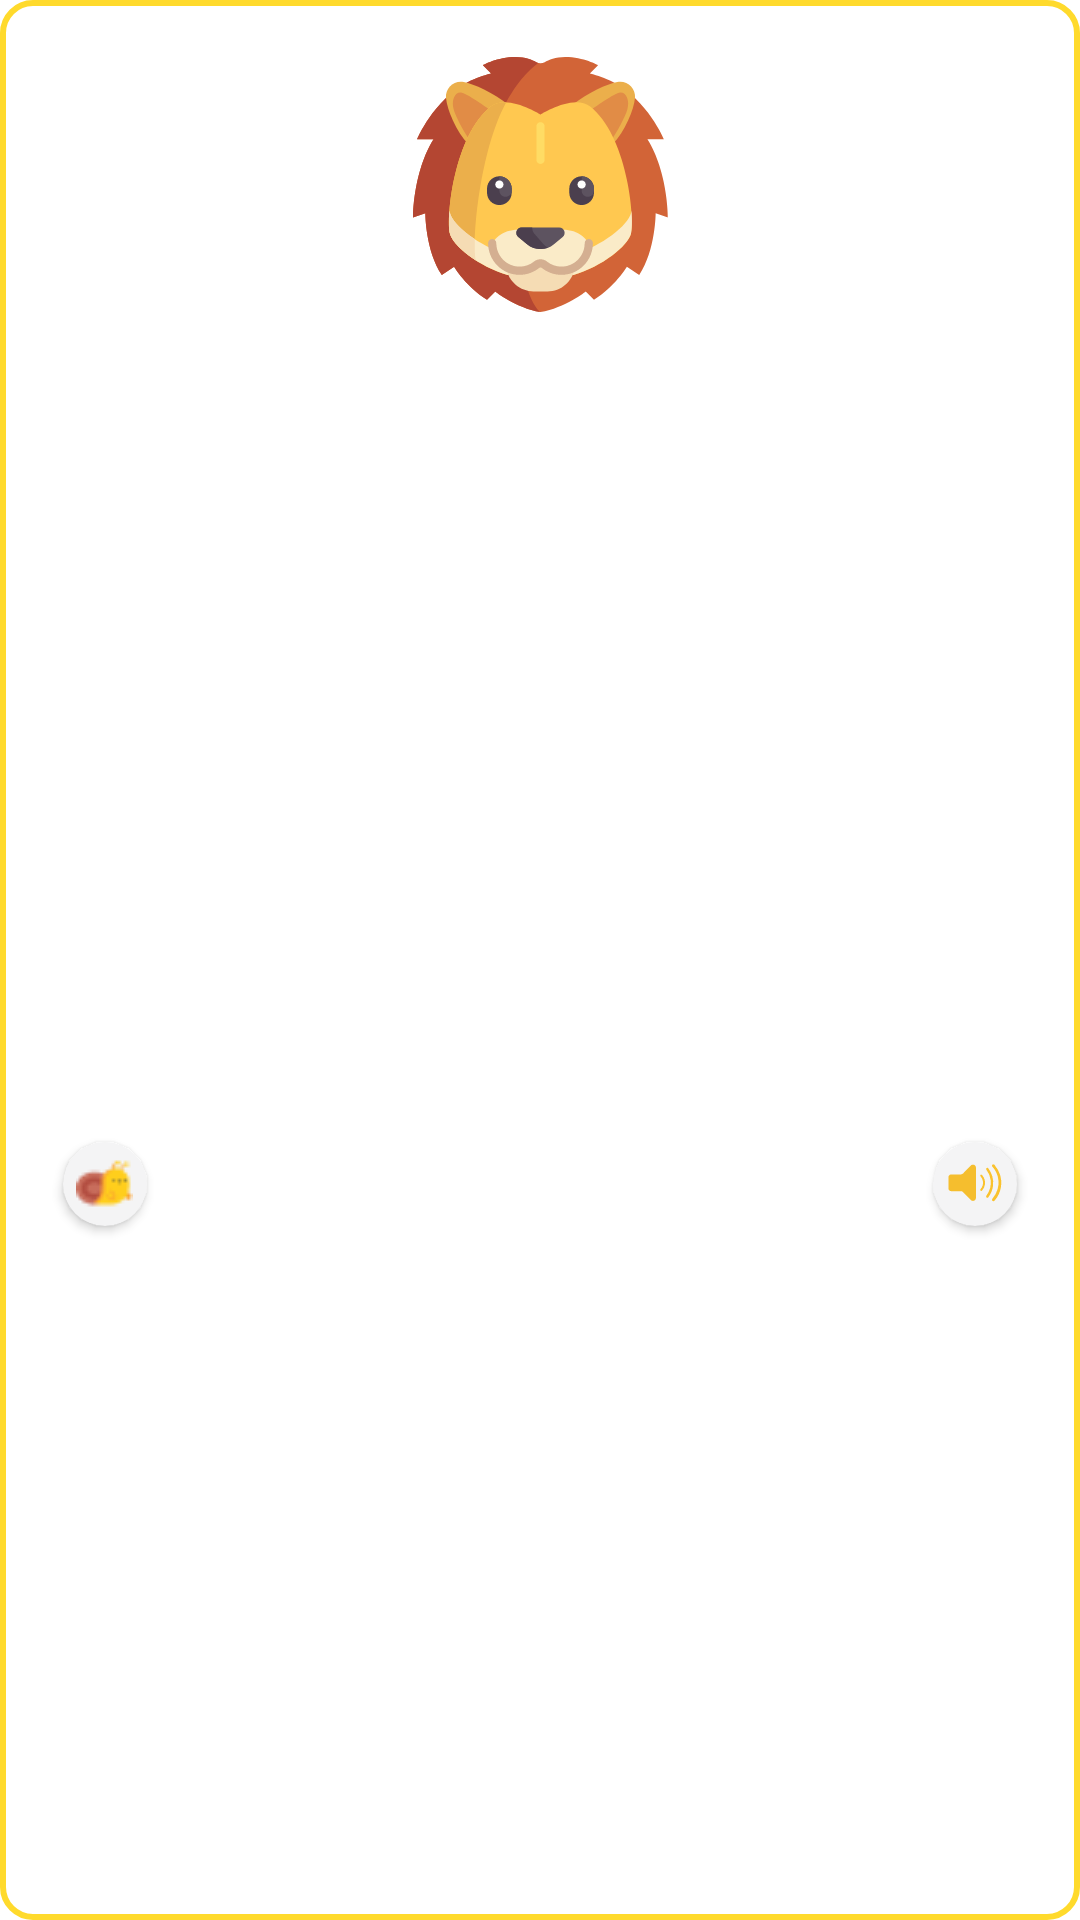

Screen size 1080px x 1920px. Icon name, then its box in pixels as BBox(x1, y1, x2, y2):
english lion: BBox(413, 57, 668, 312)
english snail: BBox(76, 1160, 133, 1207)
english sound: BBox(948, 1164, 1002, 1202)
